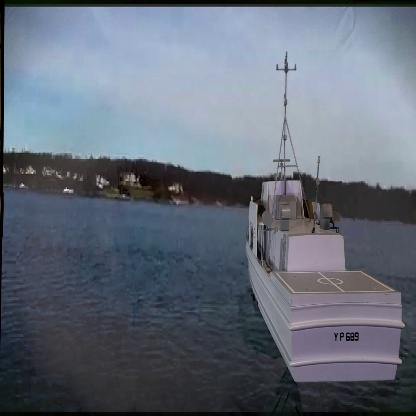YP689: (245, 49, 405, 378)
